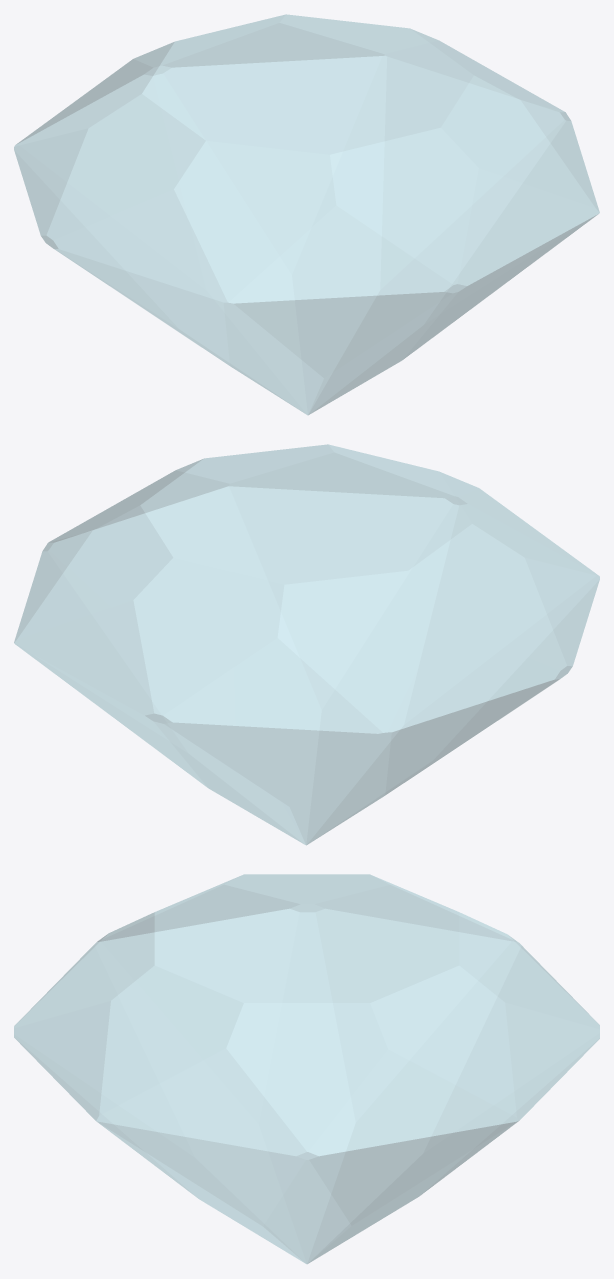
3 views of the same model, one above another, from view 1: azimuth 30°, elevation 25°; view 2: azimuth 150°, elevation 25°; view 3: azimuth 270°, elevation 25° (orthographic).
Visible parts, largest first — view 1: Object_1; view 2: Object_1; view 3: Object_1.
Part boxes in pixels (bbox=[...]): Object_1: bbox=[14, 14, 599, 415]; Object_1: bbox=[14, 444, 599, 845]; Object_1: bbox=[14, 874, 599, 1263].
Size of the model in its own units: 10 by 10 by 6.13.
